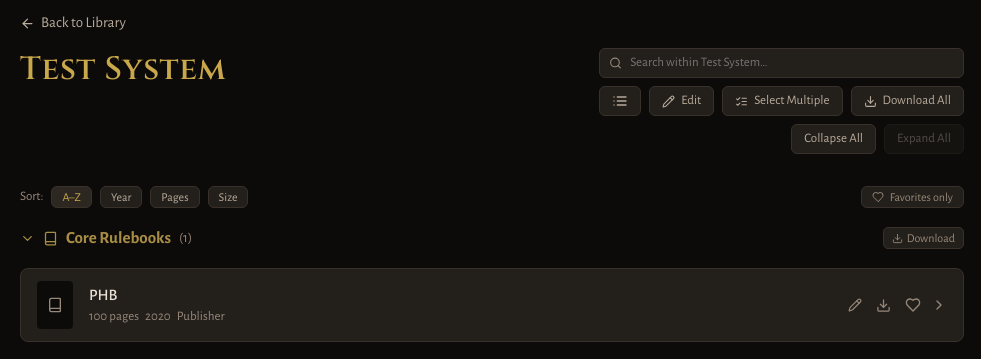
Test: SystemDetailView — subfolder grouping › category section collapse › collapses a category section when its header is clicked
The image size is (981, 359).
Expected: the text "PHB" is shown, [89,286,117,302]
Click the button "Core Rulebooks (1)": (119, 238) [20,224,875,252]
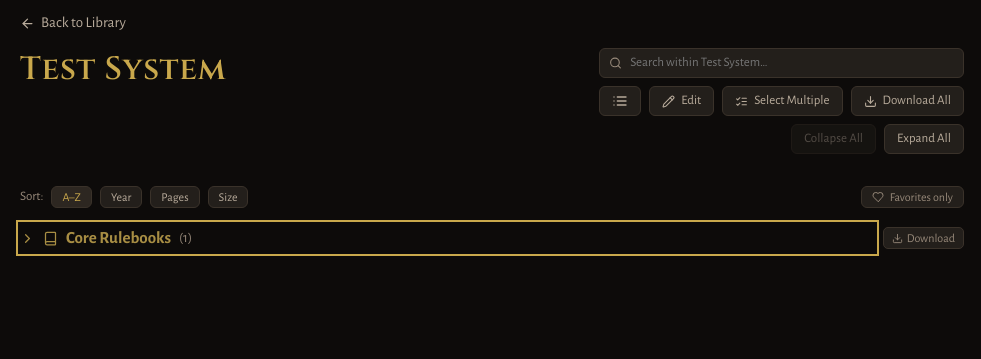
Now the button "PHB" is gone
